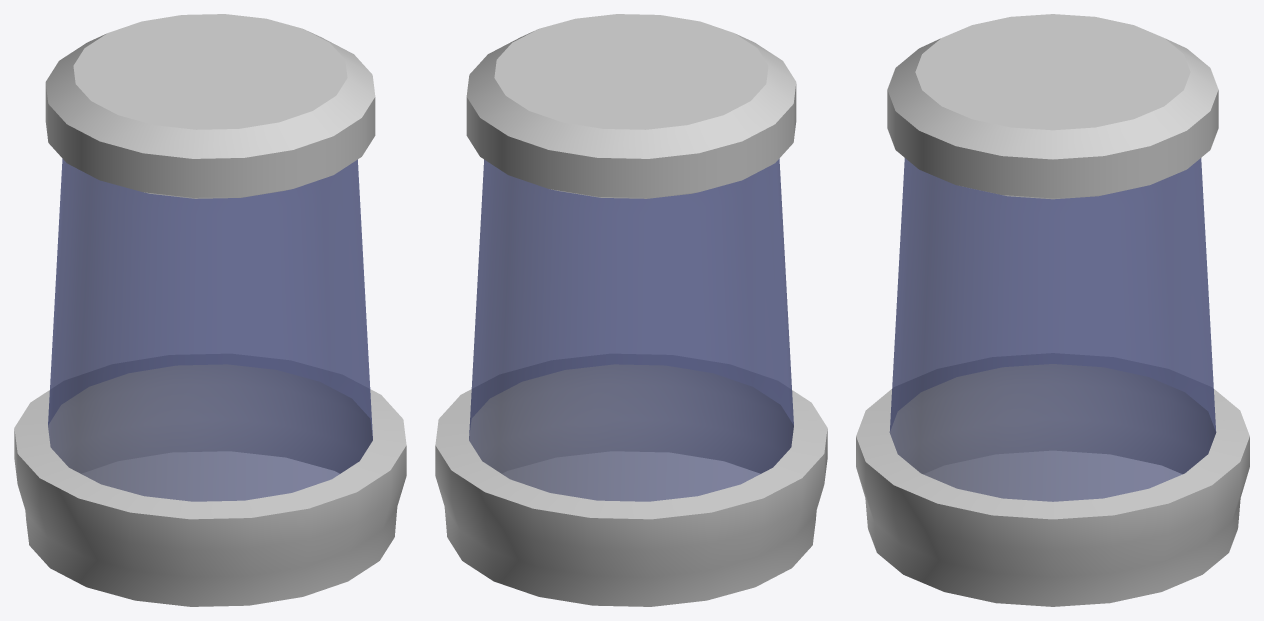
Rendered from GlassTank.fbx.
3 views of the same model, side by side, from view 1: azimuth 30°, elevation 25°; view 2: azimuth 150°, elevation 25°; view 3: azimuth 270°, elevation 25° (orthographic).
Visible parts, largest first — view 1: Cube; view 2: Cube; view 3: Cube.
Part boxes in pixels (x1=…): Cube: x1=14, y1=14, x2=406, y2=606; Cube: x1=435, y1=14, x2=827, y2=606; Cube: x1=856, y1=14, x2=1249, y2=606.
Bounding box in the file's own units: 2.41 × 3.09 × 2.41.
